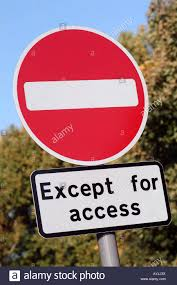No_entry: (12, 26, 150, 166)
